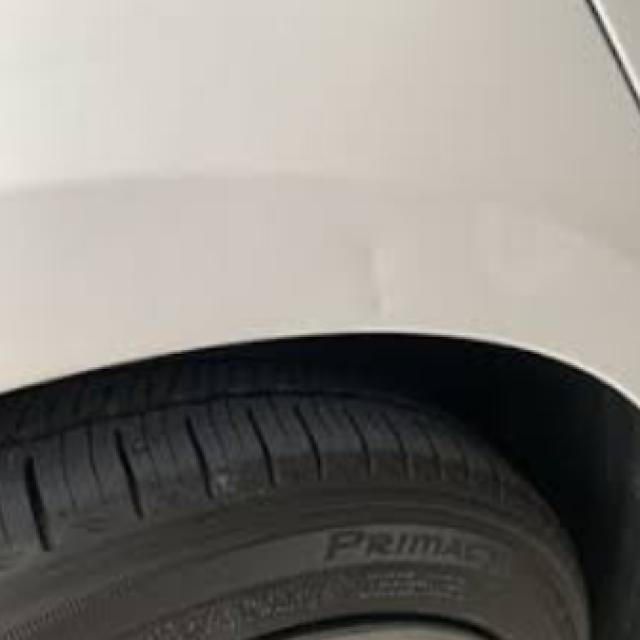dents: (322, 222, 408, 335)
